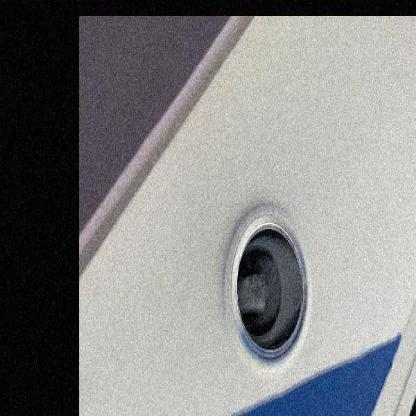light_off: (215, 187, 321, 385)
